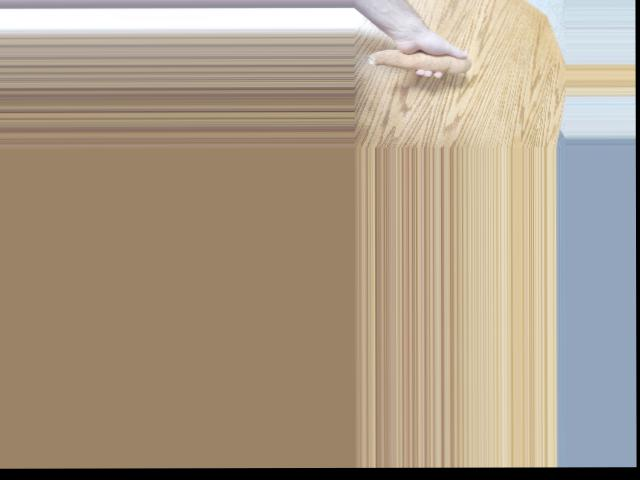sweet_potato: (365, 41, 472, 75)
